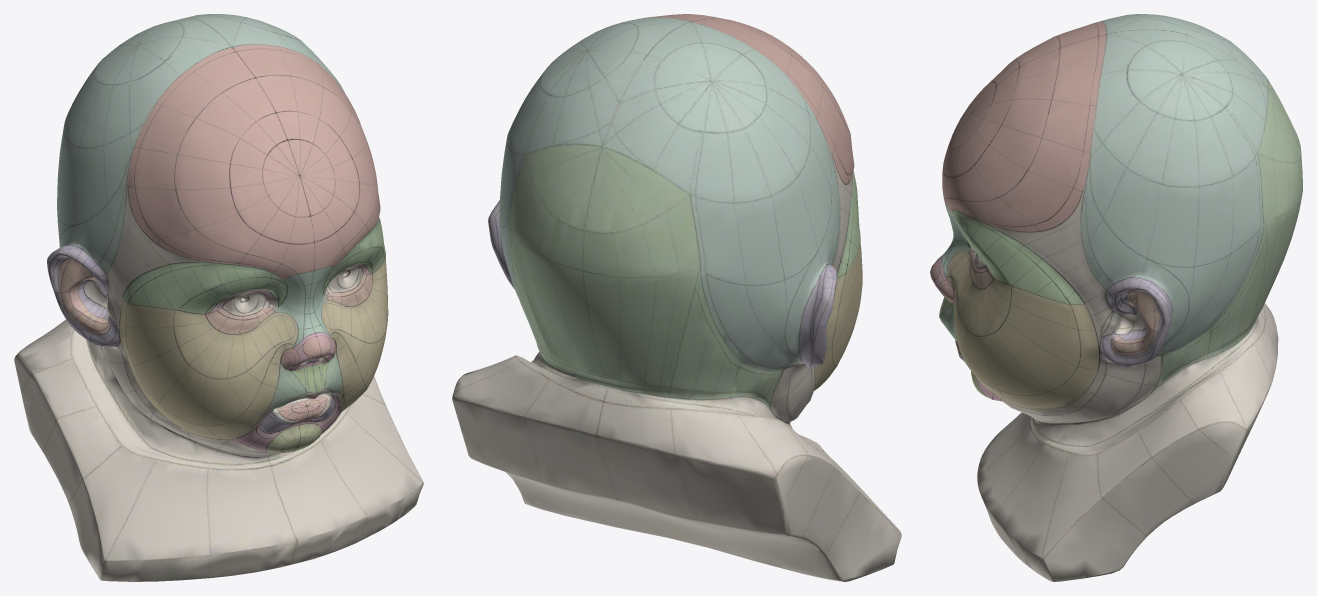
File: 头像_带标注_20260324200944_opt.glb
3 views of the same model, side by side, from view 1: azimuth 30°, elevation 25°; view 2: azimuth 150°, elevation 25°; view 3: azimuth 270°, elevation 25° (orthographic). The views are drawn at different scales.
Parts seen in each view (by area): view 1: BlockoutDecim; view 2: BlockoutDecim; view 3: BlockoutDecim.
Part boxes in pixels (bbox=[...]): BlockoutDecim: bbox=[14, 14, 423, 581]; BlockoutDecim: bbox=[452, 14, 901, 581]; BlockoutDecim: bbox=[930, 14, 1302, 581].
Size of the model in its own units: 0.279 by 0.4 by 0.284.
Materials: 1 (1 with a texture image).
